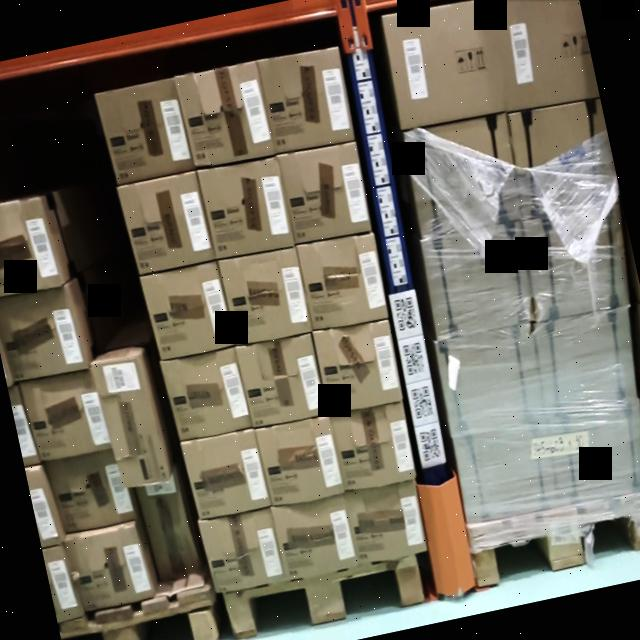box: (381, 0, 512, 124), (406, 114, 524, 240), (510, 103, 618, 227), (434, 322, 549, 438), (422, 226, 538, 340), (455, 421, 568, 532), (537, 304, 640, 422), (174, 60, 278, 174), (91, 350, 173, 493), (94, 72, 194, 186), (254, 41, 356, 152), (114, 168, 218, 274), (527, 208, 625, 315), (276, 140, 372, 248), (196, 152, 292, 260), (555, 396, 640, 505), (156, 340, 252, 436), (15, 368, 115, 460), (218, 248, 312, 344), (140, 259, 232, 356), (297, 232, 387, 330), (238, 328, 327, 426), (0, 285, 91, 380), (180, 425, 271, 518), (258, 412, 344, 506), (316, 320, 402, 412), (65, 524, 155, 610), (330, 406, 416, 494), (271, 494, 361, 578), (43, 452, 136, 528), (200, 511, 282, 595), (346, 478, 426, 562), (0, 198, 62, 293)
